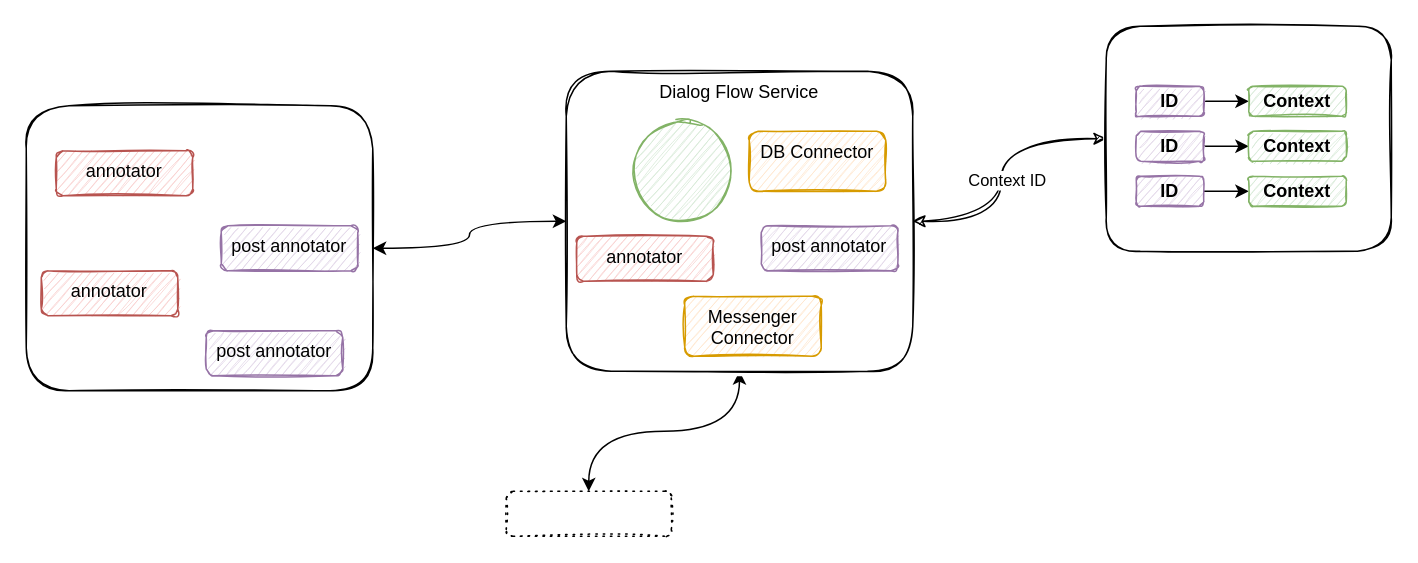
Some shapes in this 1418 by 563 pixel diagram are drawn without their labels. Here are the shapes that lost their labels. From the top down, the box of each, then its label:
(1105, 25, 1391, 251): Database
(631, 119, 733, 221): bot / actor
(25, 104, 373, 391): Annotators
(505, 490, 671, 536): Message Channel
